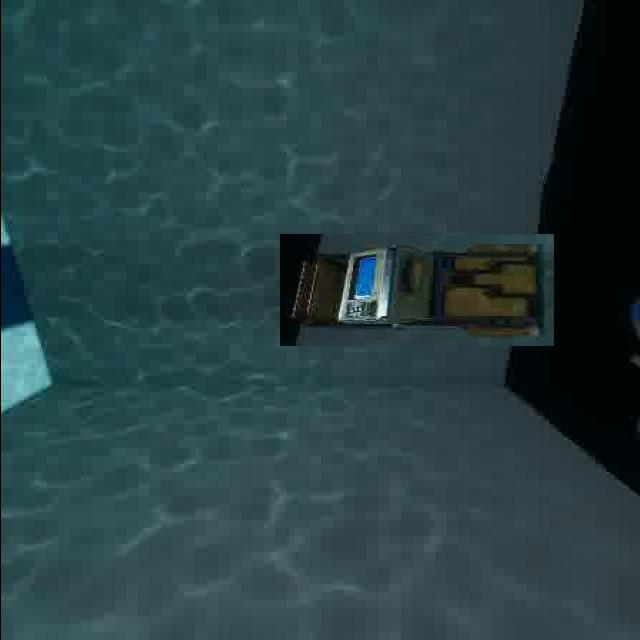Control Panel: (279, 234, 554, 347)
